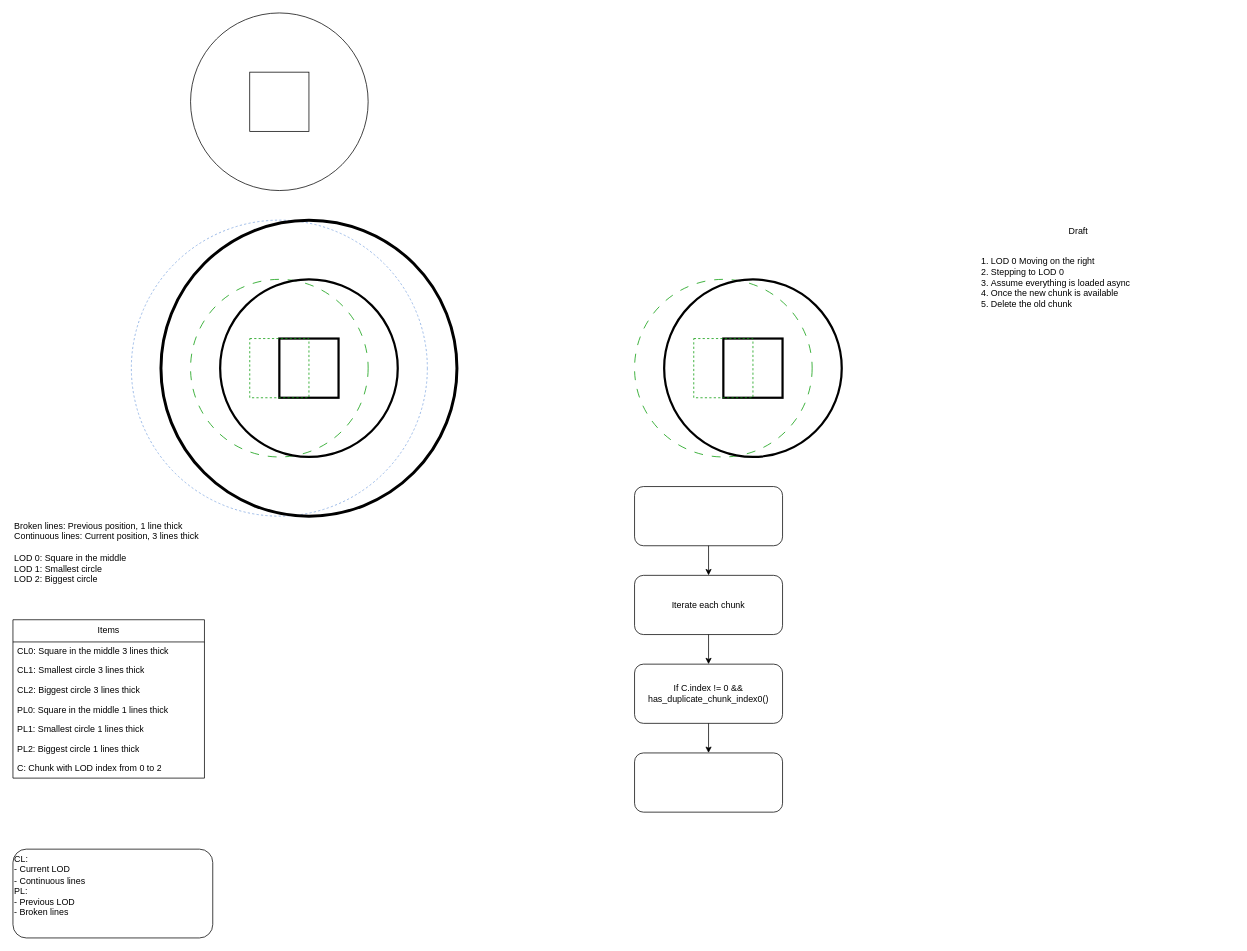
Some shapes in this 1247 by 951 pixel diagram are drawn without their labels. The centre of each missing label's shape, as x and y in pixels:
"CL0" goes at (708,516).
"Remove chunk" goes at (708,782).
